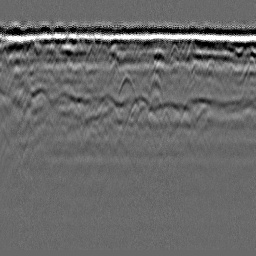cavity: (117, 72, 138, 96)
